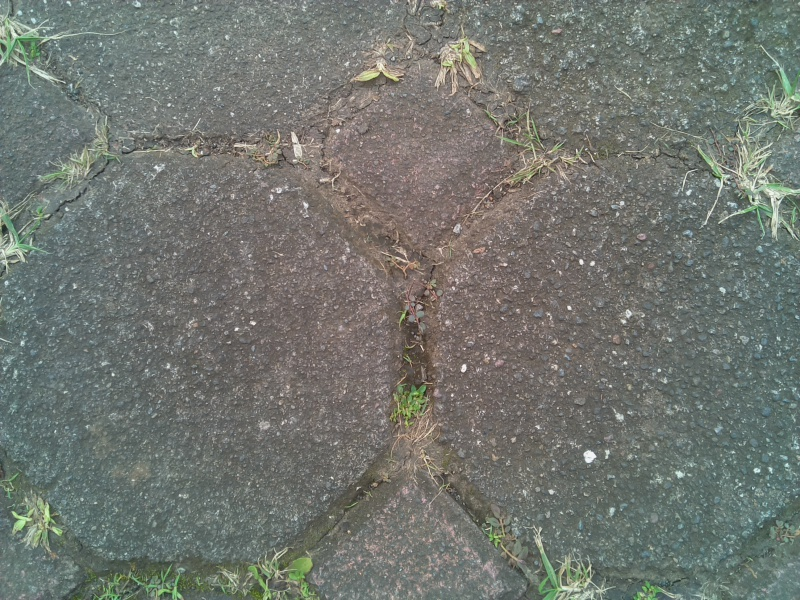Weed: (695, 133, 800, 243), (1, 6, 77, 90), (380, 380, 445, 478), (506, 108, 579, 192), (527, 535, 612, 600), (42, 125, 119, 192), (203, 118, 291, 175), (753, 49, 800, 130), (8, 492, 69, 552), (1, 199, 45, 277), (431, 31, 488, 91), (89, 569, 195, 600), (395, 272, 445, 337), (250, 552, 317, 600), (355, 45, 405, 86), (627, 578, 664, 600)
